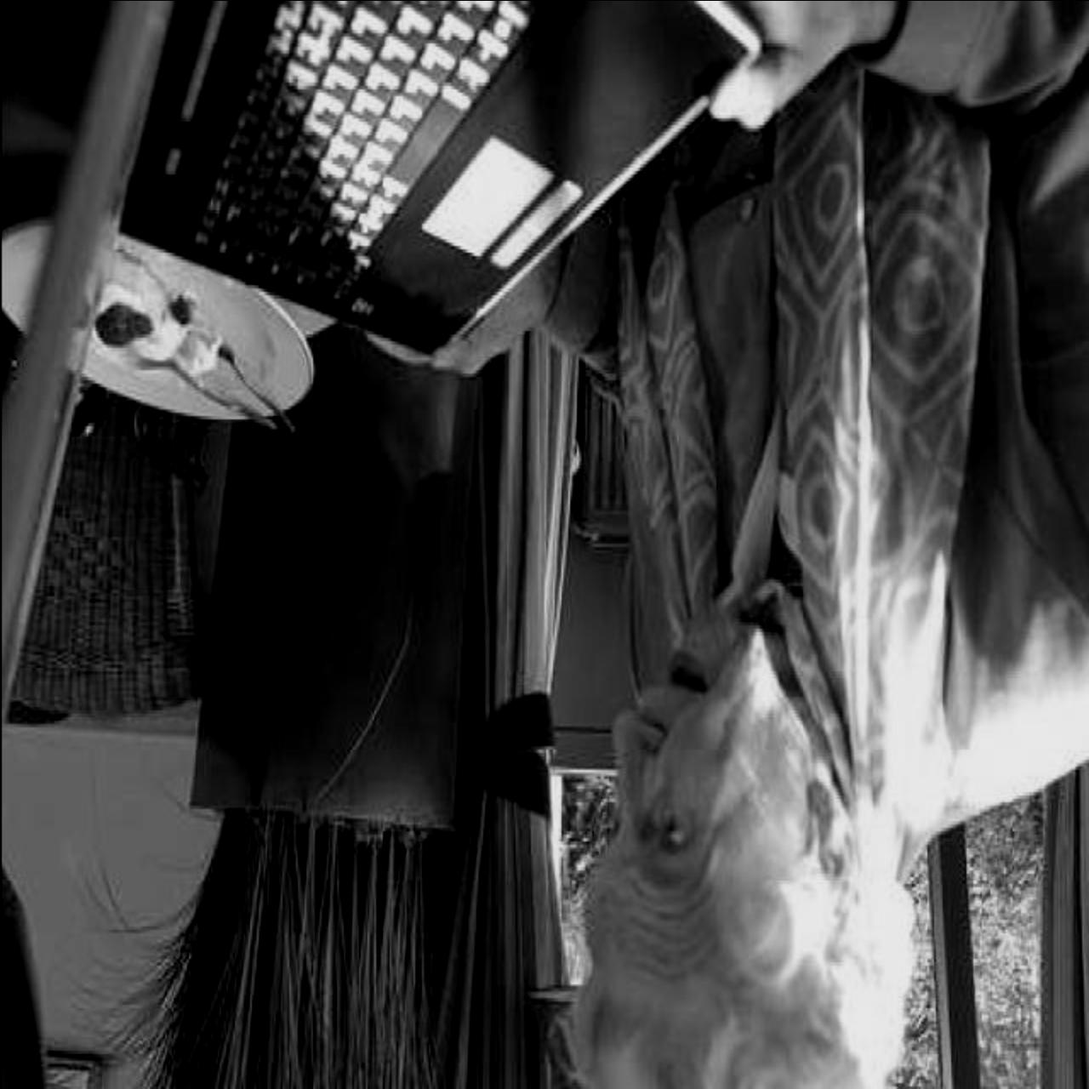laptop: (13, 1, 763, 700)
